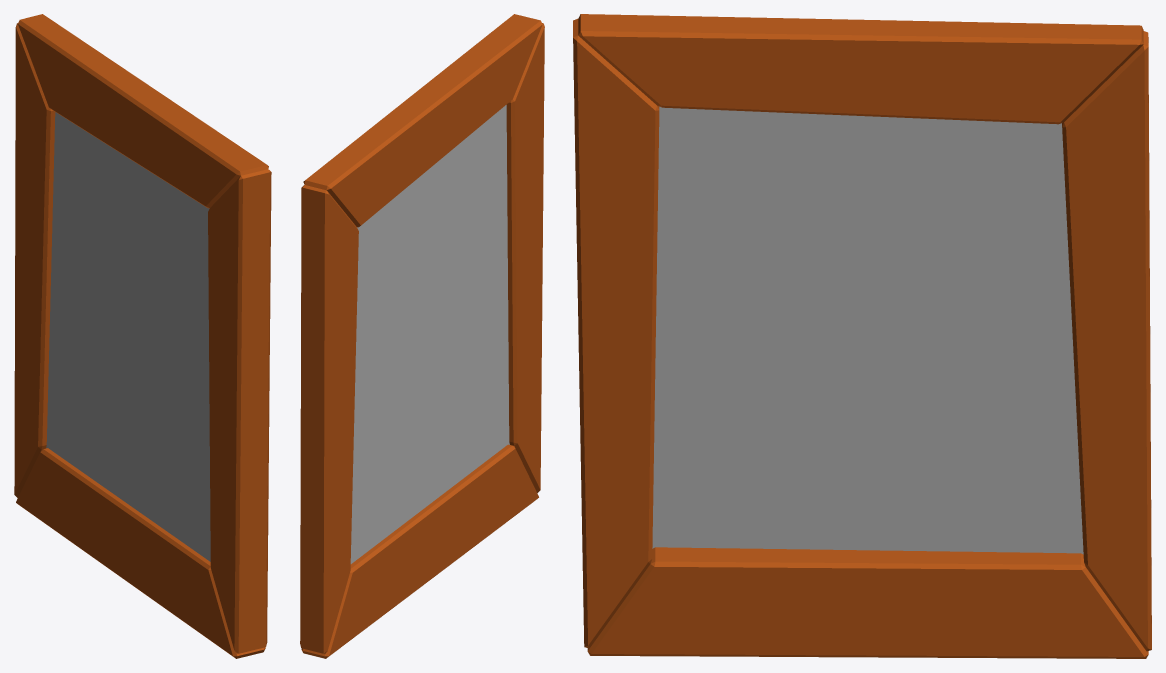
File: Picture_05.glb
3 renders of one model, left to right at view 1: azimuth 30°, elevation 25°; view 2: azimuth 150°, elevation 25°; view 3: azimuth 270°, elevation 25°, orthographic. The views are drawn at different scales.
Visible parts, largest first — view 1: Picture5; view 2: Picture5; view 3: Picture5.
Boxes of the visible parts, left/top/right/bottom form: Picture5: left=14, top=14, right=271, bottom=658; Picture5: left=300, top=14, right=544, bottom=658; Picture5: left=573, top=14, right=1151, bottom=658.
Bounding box in the file's own units: 0.026 × 0.3715 × 0.3089.
